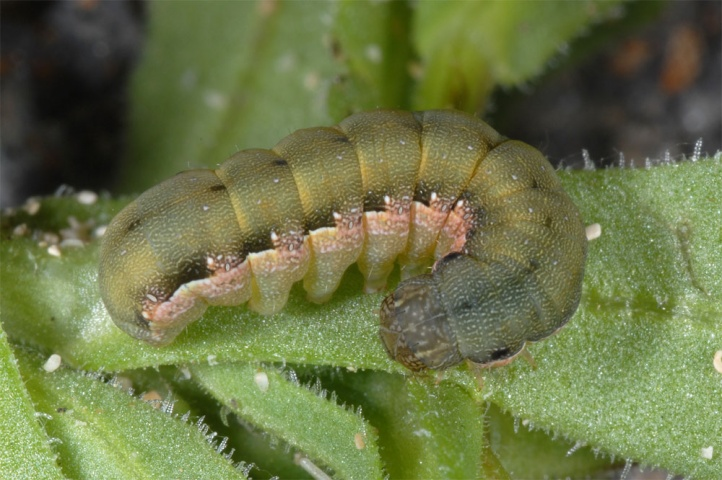Armyworm: (85, 96, 569, 377)
